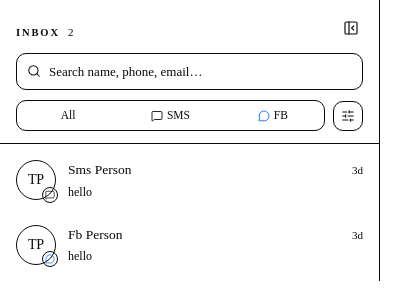
Test: ConversationsSidebar channel filter › filters the list down to the selected social channel
This screenshot has width=397, height=298.
Expected: the text "Sms Person" is shown, [68,160,131,181]
Expected: the text "Fb Person" is shown, [68,224,122,245]
Click the button "FB" at (273, 116), box [222,101,324,130]
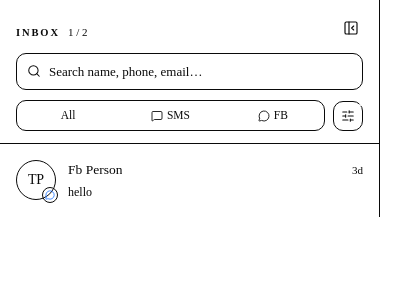
Expected: the text "Fb Person" is shown, [68,160,122,181]
Expected: the link "Sms Person" is gone
